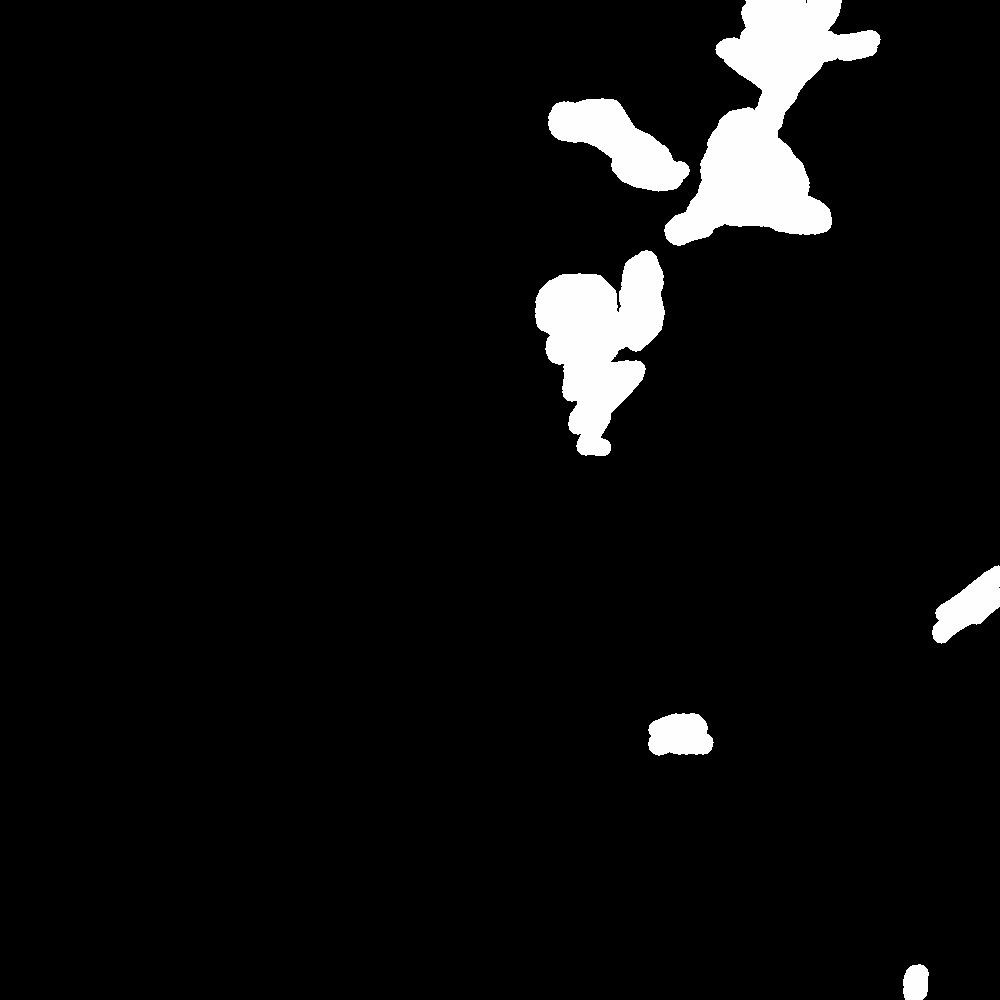illegal: (541, 106, 818, 442), (719, 1, 874, 103), (556, 98, 682, 191), (555, 431, 626, 559), (929, 567, 1000, 641), (642, 689, 719, 752), (459, 67, 563, 110)
